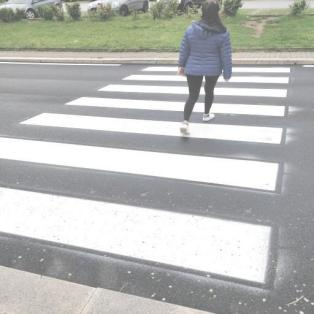Paso de Cebra: (13, 92, 294, 148), (117, 65, 298, 85)
